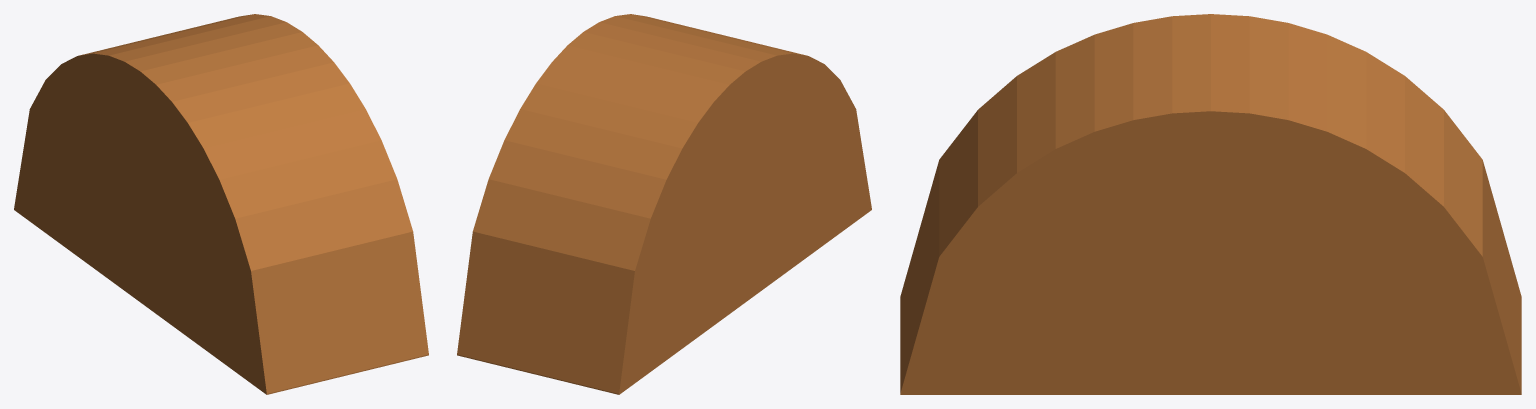
File: round-door-top.dae
The picture shows the model from 3 angles, left to right: view 1: azimuth 30°, elevation 25°; view 2: azimuth 150°, elevation 25°; view 3: azimuth 270°, elevation 25°; orthographic projection. The views are drawn at different scales.
Visible parts, largest first — view 1: Cube_037; view 2: Cube_037; view 3: Cube_037.
Part boxes in pixels (left/top/right/bottom): Cube_037: left=14, top=14, right=428, bottom=394; Cube_037: left=457, top=14, right=871, bottom=394; Cube_037: left=900, top=14, right=1521, bottom=394.
Bounding box in the file's own units: 0.1025 × 0.2768 × 0.1395.
